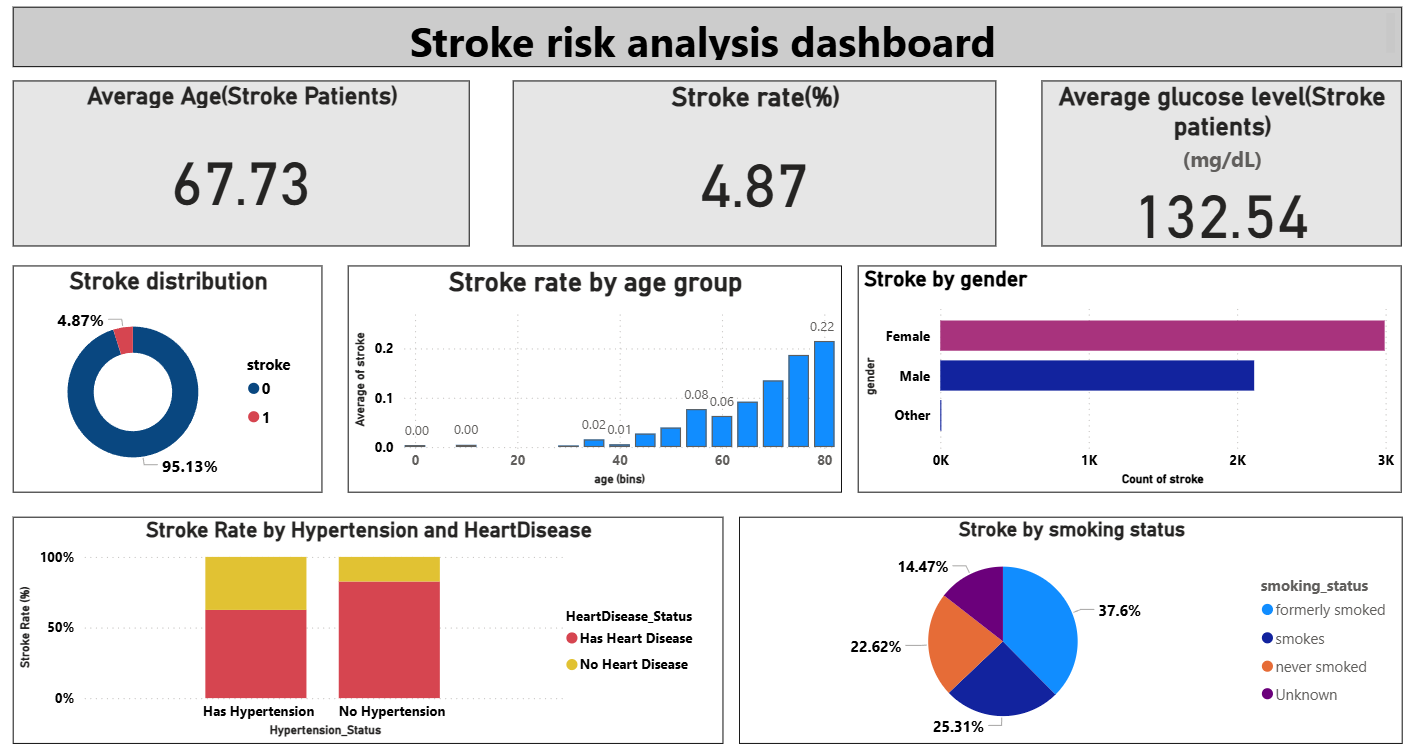

The page's visual inventory and layout, read from the dashboard file:
{"tool":"powerbi","page":{"name":"Page 1","canvas":[1280,720],"ordinal":0},"visuals":[{"type":"card","title":"Average Age(Stroke Patients)","fields":{"Values":["Avg(healthcare-dataset-stroke-data_powerbi (1).age)"]},"box":[16.6,79.3,412.1,149.2],"z":0},{"type":"card","title":"Stroke rate(%)","fields":{"Values":["healthcare-dataset-stroke-data_powerbi (1).Stroke Rate (%)"]},"box":[467.8,79.3,435.8,149.2],"z":1000},{"type":"card","title":"Average glucose level(Stroke patients)","fields":{"Values":["Avg(healthcare-dataset-stroke-data_powerbi (1).avg_glucose_level)"]},"box":[945.1,79.3,324.5,149.2],"z":2000},{"type":"donutChart","title":"Stroke distribution","fields":{"Category":["healthcare-dataset-stroke-data_powerbi (1).stroke"],"Y":["CountNonNull(healthcare-dataset-stroke-data_powerbi (1).stroke)"]},"box":[16.6,245.2,279.5,204.9],"z":3000},{"type":"clusteredColumnChart","title":"Stroke rate by age group","fields":{"Y":["Avg(healthcare-dataset-stroke-data_powerbi (1).stroke)"],"Category":["healthcare-dataset-stroke-data_powerbi (1).age (bins)"]},"box":[318.6,245.2,445.3,204.9],"z":4000},{"type":"clusteredBarChart","title":"Stroke by gender","fields":{"Category":["healthcare-dataset-stroke-data_powerbi (1).gender"],"Y":["CountNonNull(healthcare-dataset-stroke-data_powerbi (1).stroke)"]},"box":[779.3,245.2,490.3,204.9],"z":5000},{"type":"hundredPercentStackedColumnChart","title":"Stroke Rate by Hypertension  and HeartDisease","fields":{"Category":["healthcare-dataset-stroke-data_powerbi (1).Hypertension_Status"],"Series":["healthcare-dataset-stroke-data_powerbi (1).HeartDisease_Status"],"Y":["healthcare-dataset-stroke-data_powerbi (1).Stroke Rate (%)"]},"box":[16.8,472.6,640.8,204.7],"z":6000},{"type":"pieChart","title":"Stroke by smoking status","fields":{"Category":["healthcare-dataset-stroke-data_powerbi (1).smoking_status"],"Y":["Avg(healthcare-dataset-stroke-data_powerbi (1).stroke)"]},"box":[671.7,472.6,598.8,204.7],"z":7000},{"type":"textbox","box":[16.6,11.8,1253,54.5],"z":7001}]}

Visuals, with their boxes on the page's 1280x720 design canvas (x1, y1, x2, y2). These are canvas units, not pixel positions in the 1410x756 screenshot, which may show the page scaled, cropped or inside an application window:
"Average Age(Stroke Patients)" card: {"x1": 17, "y1": 79, "x2": 429, "y2": 228}
"Stroke rate(%)" card: {"x1": 468, "y1": 79, "x2": 904, "y2": 228}
"Average glucose level(Stroke patients)" card: {"x1": 945, "y1": 79, "x2": 1270, "y2": 228}
"Stroke distribution" donutChart: {"x1": 17, "y1": 245, "x2": 296, "y2": 450}
"Stroke rate by age group" clusteredColumnChart: {"x1": 319, "y1": 245, "x2": 764, "y2": 450}
"Stroke by gender" clusteredBarChart: {"x1": 779, "y1": 245, "x2": 1270, "y2": 450}
"Stroke Rate by Hypertension  and HeartDisease" hundredPercentStackedColumnChart: {"x1": 17, "y1": 473, "x2": 658, "y2": 677}
"Stroke by smoking status" pieChart: {"x1": 672, "y1": 473, "x2": 1270, "y2": 677}
textbox: {"x1": 17, "y1": 12, "x2": 1270, "y2": 66}
